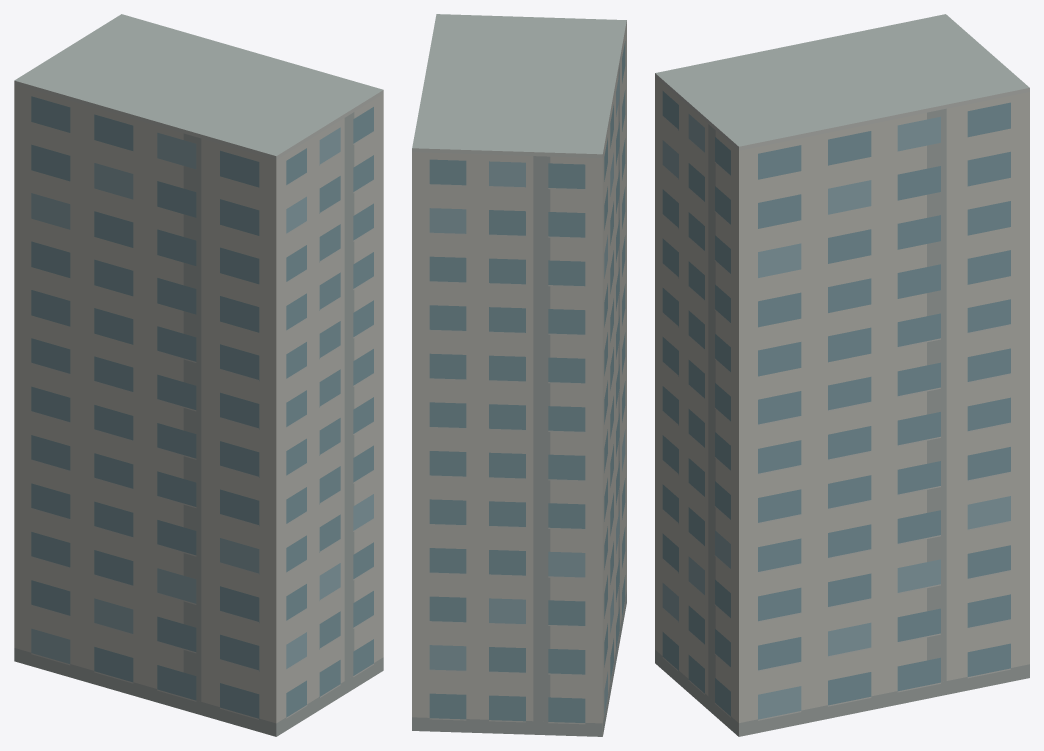
The model's file is residential-e473f94b-8d20-486d-8277-22639c0ed004.glb.
3 views of the same model, side by side, from view 1: azimuth 30°, elevation 25°; view 2: azimuth 150°, elevation 25°; view 3: azimuth 270°, elevation 25° (orthographic).
Visible parts, largest first — view 1: residential-e473f94b-8d20-486d-8277-22639c0ed004.tmp; view 2: residential-e473f94b-8d20-486d-8277-22639c0ed004.tmp; view 3: residential-e473f94b-8d20-486d-8277-22639c0ed004.tmp.
Boxes of the visible parts, x1,y1,x2,y2 form: residential-e473f94b-8d20-486d-8277-22639c0ed004.tmp: (14,14,383,736); residential-e473f94b-8d20-486d-8277-22639c0ed004.tmp: (412,14,626,736); residential-e473f94b-8d20-486d-8277-22639c0ed004.tmp: (655,14,1029,736).
Bounding box in the file's own units: 17.37 × 36 × 20.73.
